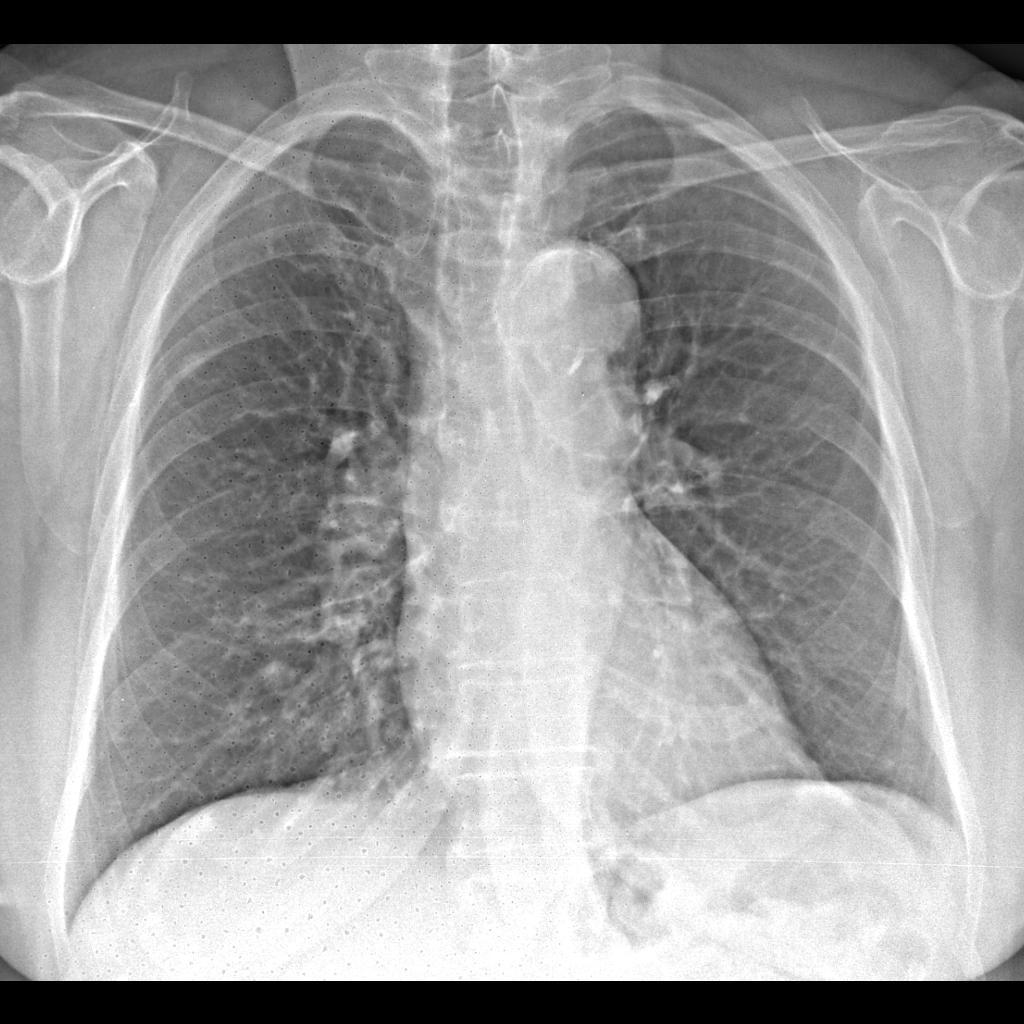Nodule: (242, 649, 315, 707)
